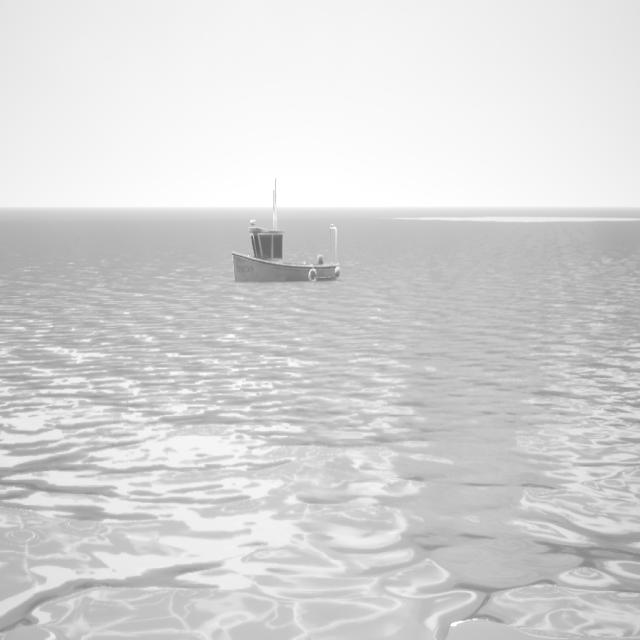ship: (232, 185, 341, 285)
